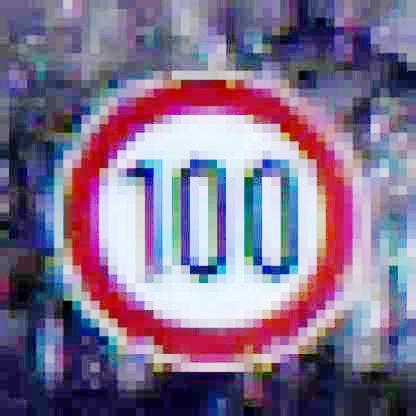Speed Limit -100-: (51, 70, 362, 373)
